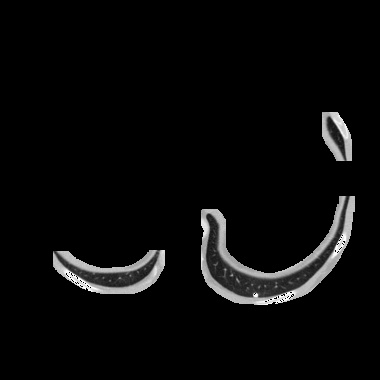PN: (253, 293, 257, 297)
